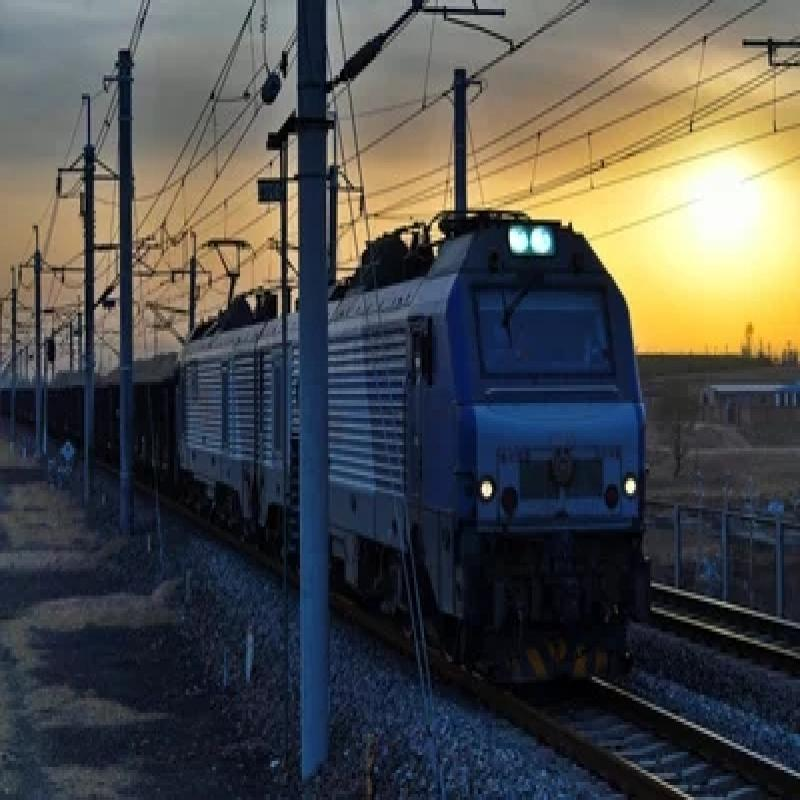train: (175, 203, 647, 699)
